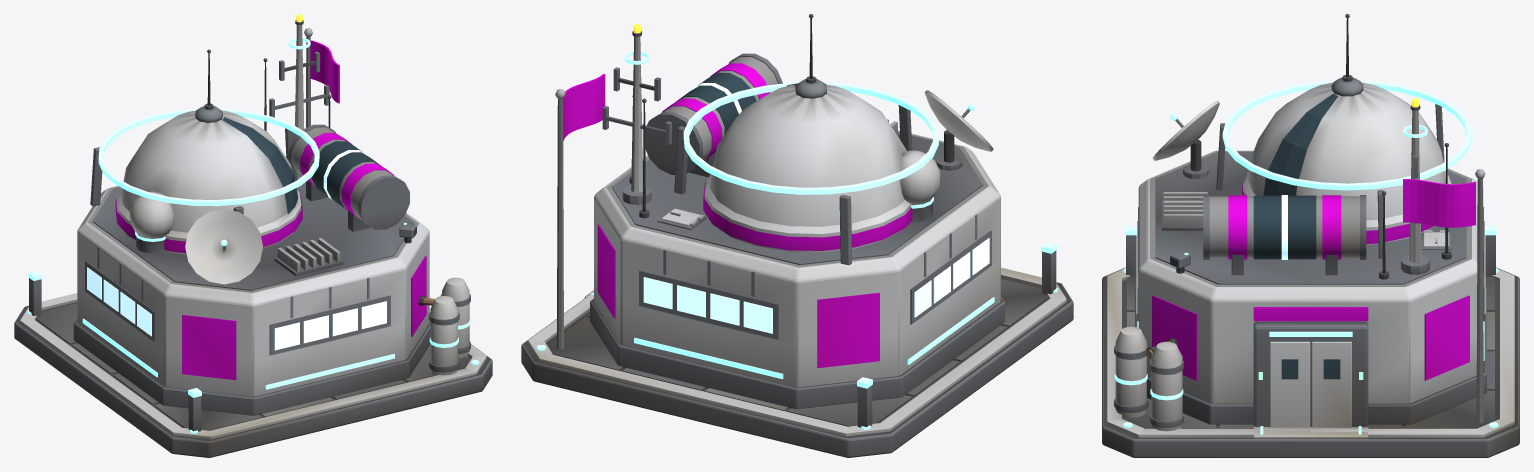
The model's file is tech_center_future.glb.
3 views of the same model, side by side, from view 1: azimuth 30°, elevation 25°; view 2: azimuth 150°, elevation 25°; view 3: azimuth 270°, elevation 25° (orthographic). The views are drawn at different scales.
Visible parts, largest first — view 1: Body, Halo; view 2: Body, Halo; view 3: Body, Halo.
Part boxes in pixels (x1,y1,x2,y2): Body: (14, 14, 492, 457); Halo: (98, 108, 319, 206); Body: (521, 14, 1073, 457); Halo: (683, 82, 938, 194); Body: (1102, 14, 1519, 457); Halo: (1222, 81, 1472, 190).
Bounding box in the file's own units: 4 × 3.6 × 4.
Materials: 1 (1 with a texture image).
